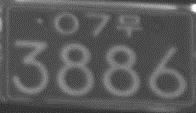0: (52, 10, 80, 35)
3: (12, 39, 49, 95)
6: (147, 45, 187, 100)
7: (85, 10, 111, 37)
8: (56, 41, 95, 97), (101, 43, 140, 98)
무: (117, 13, 143, 38)
